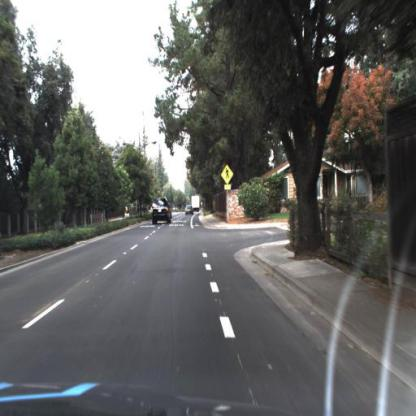car: (150, 197, 174, 228), (192, 196, 202, 212), (184, 204, 194, 216)
truck: (189, 193, 202, 219)
